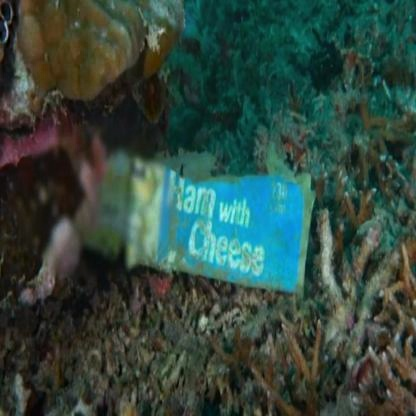plastic: (34, 118, 328, 297)
